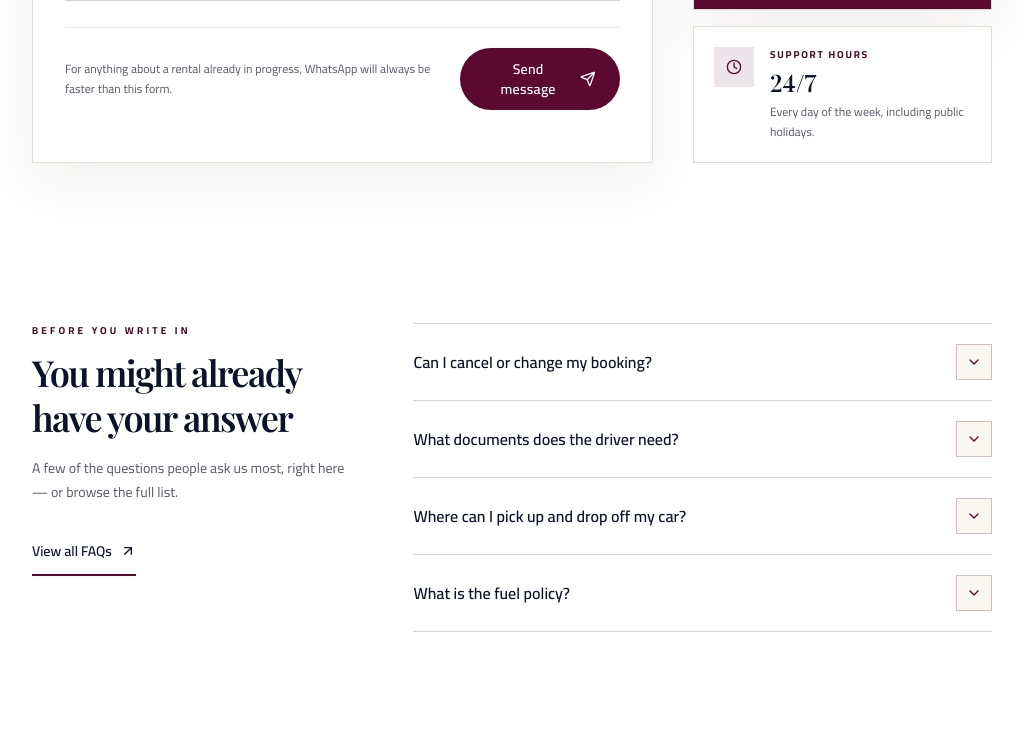
Test case: ContactPage › renders the FAQ shortcut questions collapsed, expanding an answer on click
(page scrolled)
What coordinates should you click on to do the following:
click the button "Can I cancel or change my booking?"
I would click on:
 (533, 362)
Its box is [413, 324, 992, 400].
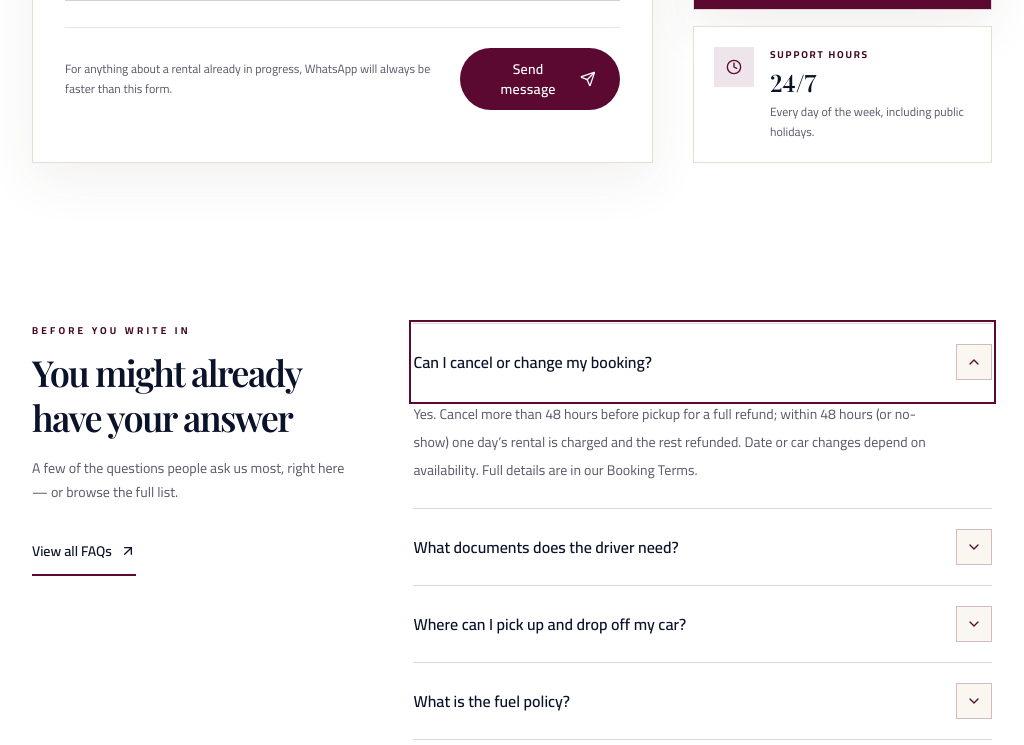
Expected: the text "more than 48 hours before pickup" is shown, [413, 400, 926, 482]
Expected: the button "Can I cancel or change my booking?" is expanded, [413, 324, 992, 400]
